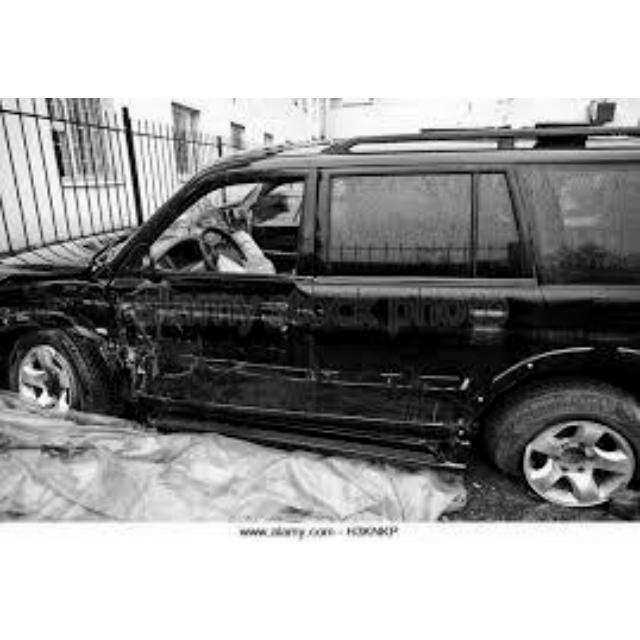doorouter-dent: (115, 289, 295, 417)
fender-dent: (5, 270, 107, 331)
